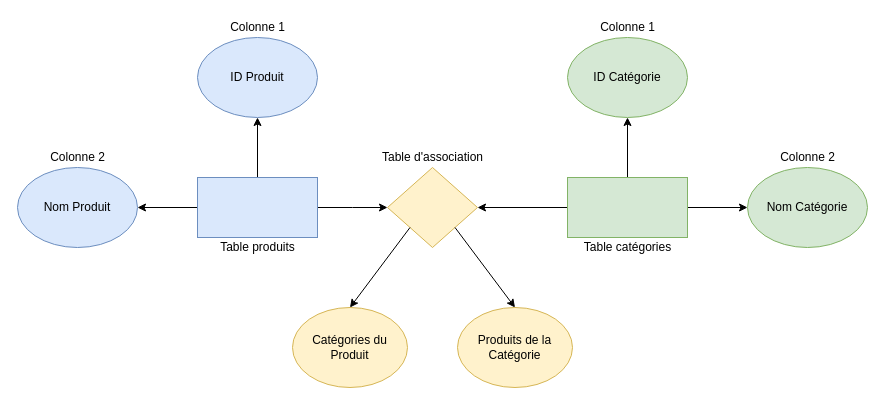
Some shapes in this 885 by 405 pixel diagram are drawn without their labels. The centre of each missing label's shape, as x and y in pixels:
"Catégorie" belongs at [627,207].
"correspond à" belongs at [432,207].
"Produit" belongs at [257,207].
